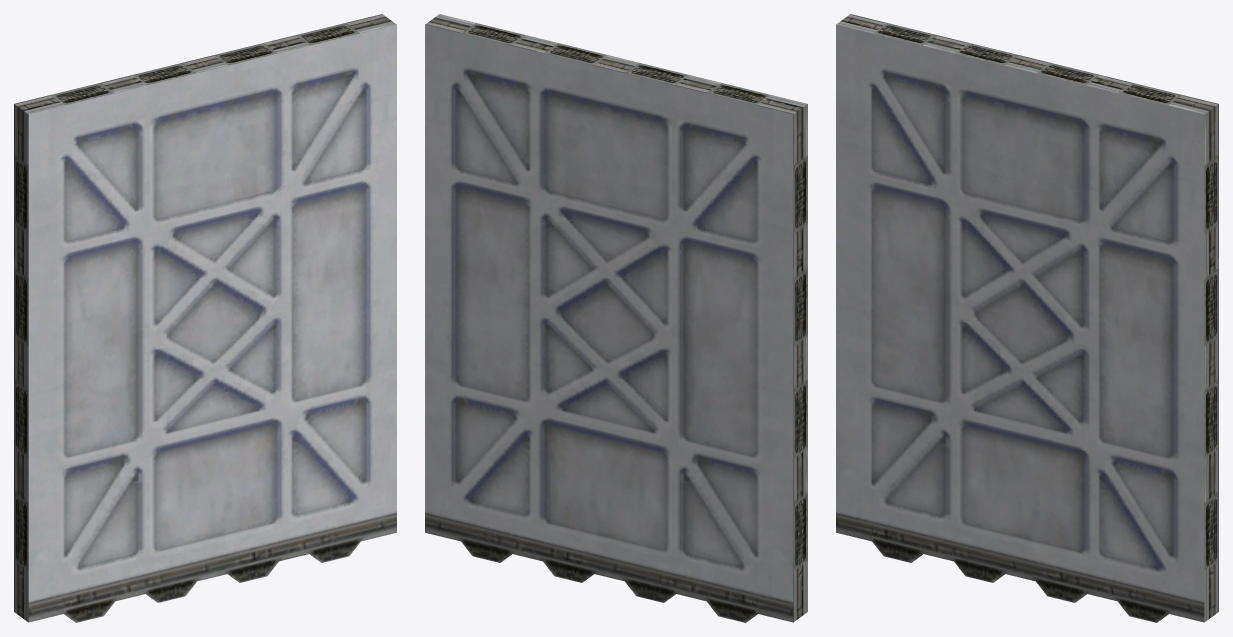
The model's file is door_bunker_rebel.fbx.
3 views of the same model, side by side, from view 1: azimuth 30°, elevation 25°; view 2: azimuth 150°, elevation 25°; view 3: azimuth 330°, elevation 25° (orthographic).
Parts seen in each view (by area): view 1: mesh_node; view 2: mesh_node; view 3: mesh_node.
Boxes of the visible parts, box(x1,y1,x2,y2) form: mesh_node: box(14, 14, 396, 622); mesh_node: box(425, 14, 807, 622); mesh_node: box(836, 14, 1218, 622).
Size of the model in its own units: 2.2 by 2.97 by 0.15.
